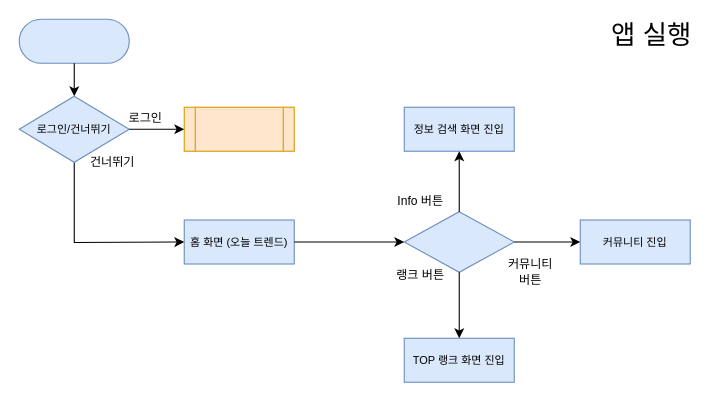
Some shapes in this 721 by 402 pixel diagram are drawn without their labels. Here are the shapes that lost their labels. From the top down, the box of each, then its label:
(18, 18, 129, 63): 앱 시작
(183, 106, 294, 151): 로그인 화면
(403, 211, 514, 272): 하단 메뉴 선택
